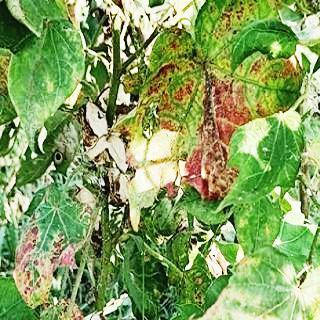blight: (135, 14, 301, 201), (12, 181, 80, 312)
